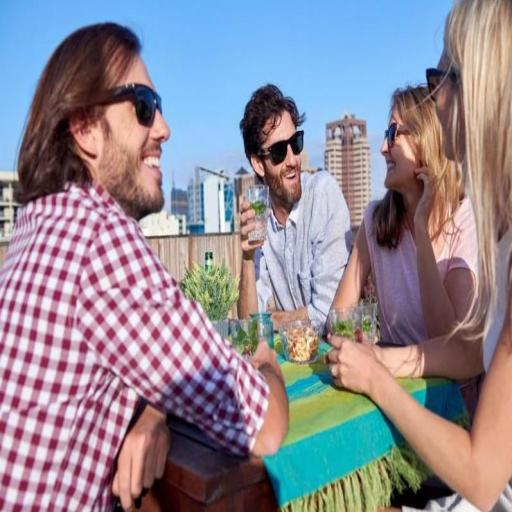person: (0, 23, 288, 510), (329, 0, 511, 511), (332, 86, 477, 345), (238, 85, 351, 327)
